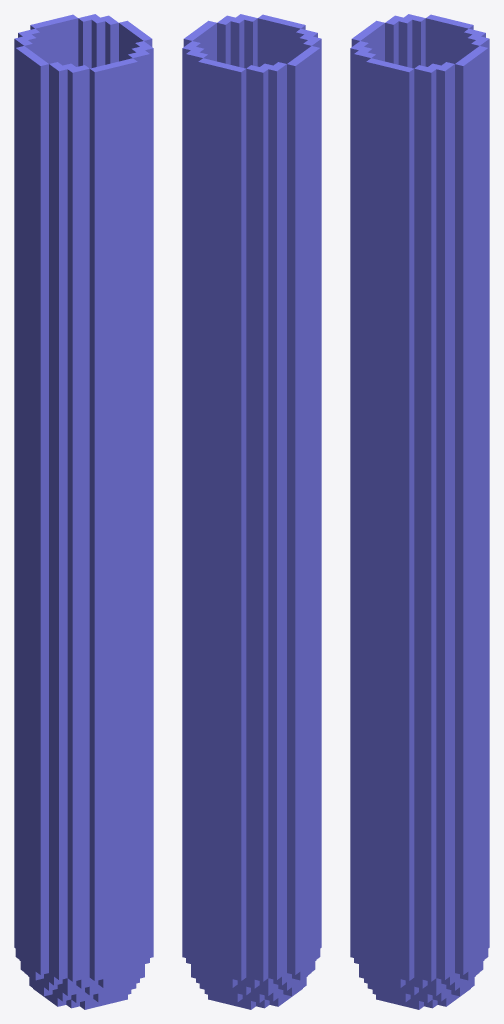
File: Test Tube Rack2-2-1.fbx
3 renders of one model, left to right at view 1: azimuth 30°, elevation 25°; view 2: azimuth 150°, elevation 25°; view 3: azimuth 330°, elevation 25°, orthographic.
Parts seen in each view (by area): view 1: Test Tube Rack2-2-1.001; view 2: Test Tube Rack2-2-1.001; view 3: Test Tube Rack2-2-1.001.
Boxes of the visible parts, x1,y1,x2,y2 form: Test Tube Rack2-2-1.001: [14, 14, 153, 1009]; Test Tube Rack2-2-1.001: [182, 14, 321, 1009]; Test Tube Rack2-2-1.001: [350, 14, 489, 1009].
Size of the model in its own units: 1.3 by 10.5 by 1.3.
